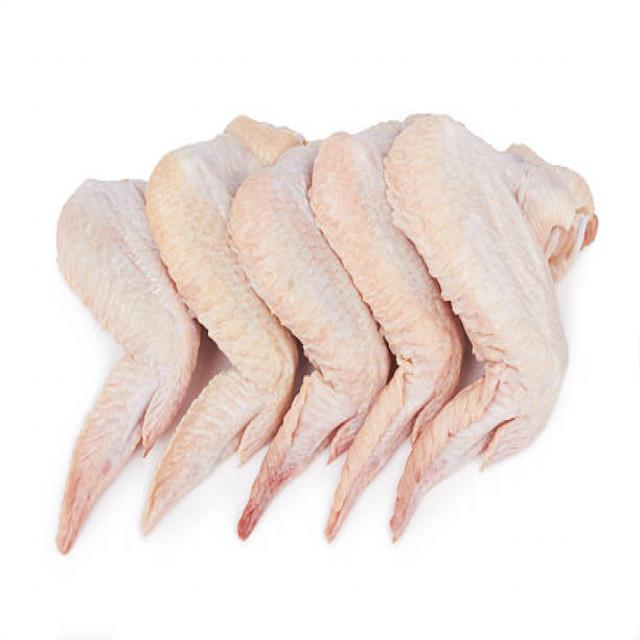Chicken Wing: (400, 112, 591, 548), (307, 121, 447, 545), (236, 131, 372, 550), (49, 168, 188, 543)
